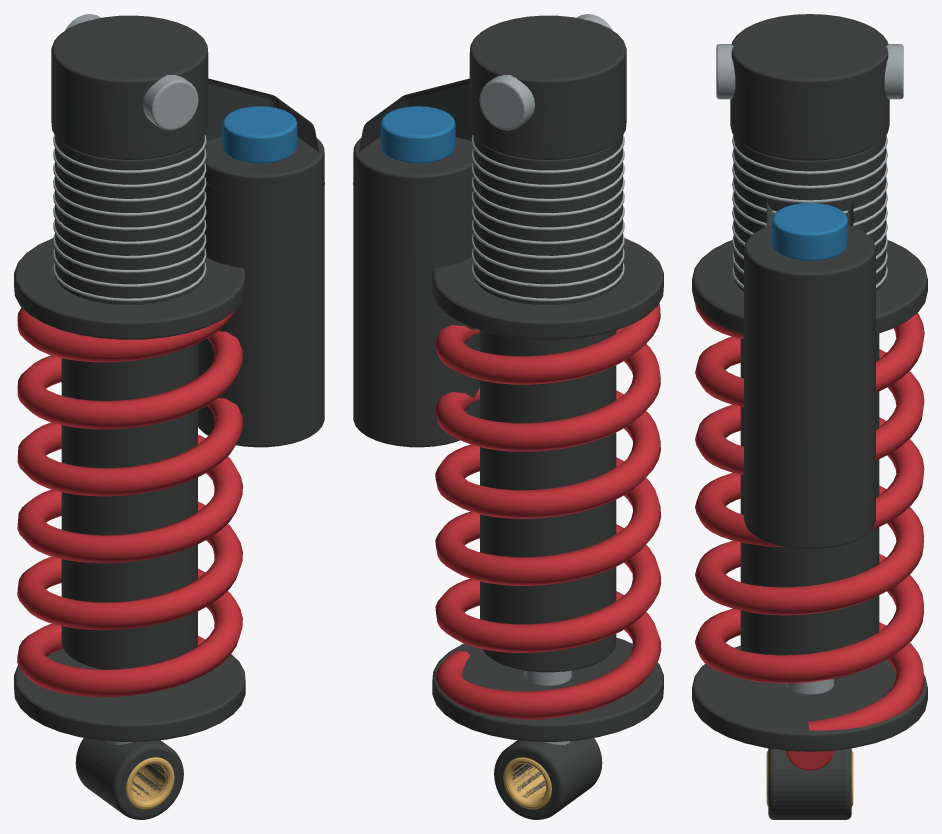
The model's file is rockshox-vivid-coil-ultimate-d1--e4340fec.glb.
3 renders of one model, left to right at view 1: azimuth 30°, elevation 25°; view 2: azimuth 150°, elevation 25°; view 3: azimuth 270°, elevation 25°, orthographic.
Visible parts, largest first — view 1: rockshox-vivid-coil-ultimate-d1--e4340fec__link, rockshox-vivid-coil-ultimate-d1--e4340fec__rebound, rockshox-vivid-coil-ultimate-d1--e4340fec__bolts, rockshox-vivid-coil-ultimate-d1--e4340fec__adjuster, rockshox-vivid-coil-ultimate-d1--e4340fec__stanchions; view 2: rockshox-vivid-coil-ultimate-d1--e4340fec__link, rockshox-vivid-coil-ultimate-d1--e4340fec__rebound, rockshox-vivid-coil-ultimate-d1--e4340fec__bolts, rockshox-vivid-coil-ultimate-d1--e4340fec__adjuster, rockshox-vivid-coil-ultimate-d1--e4340fec__stanchions; view 3: rockshox-vivid-coil-ultimate-d1--e4340fec__link, rockshox-vivid-coil-ultimate-d1--e4340fec__rebound, rockshox-vivid-coil-ultimate-d1--e4340fec__bolts, rockshox-vivid-coil-ultimate-d1--e4340fec__adjuster.
Part boxes in pixels (left/top/right/bottom): rockshox-vivid-coil-ultimate-d1--e4340fec__link: left=14, top=15, right=324, bottom=819; rockshox-vivid-coil-ultimate-d1--e4340fec__rebound: left=17, top=265, right=242, bottom=697; rockshox-vivid-coil-ultimate-d1--e4340fec__bolts: left=53, top=14, right=206, bottom=745; rockshox-vivid-coil-ultimate-d1--e4340fec__adjuster: left=222, top=106, right=297, bottom=163; rockshox-vivid-coil-ultimate-d1--e4340fec__stanchions: left=126, top=757, right=174, bottom=809; rockshox-vivid-coil-ultimate-d1--e4340fec__link: left=353, top=15, right=663, bottom=819; rockshox-vivid-coil-ultimate-d1--e4340fec__rebound: left=435, top=303, right=661, bottom=719; rockshox-vivid-coil-ultimate-d1--e4340fec__bolts: left=471, top=14, right=624, bottom=745; rockshox-vivid-coil-ultimate-d1--e4340fec__adjuster: left=380, top=106, right=455, bottom=163; rockshox-vivid-coil-ultimate-d1--e4340fec__stanchions: left=503, top=757, right=551, bottom=809; rockshox-vivid-coil-ultimate-d1--e4340fec__link: left=692, top=14, right=927, bottom=819; rockshox-vivid-coil-ultimate-d1--e4340fec__rebound: left=695, top=304, right=924, bottom=770; rockshox-vivid-coil-ultimate-d1--e4340fec__bolts: left=716, top=44, right=903, bottom=694; rockshox-vivid-coil-ultimate-d1--e4340fec__adjuster: left=772, top=203, right=847, bottom=260.
Bounding box in the file's own units: 0.097 × 0.245 × 0.068.
